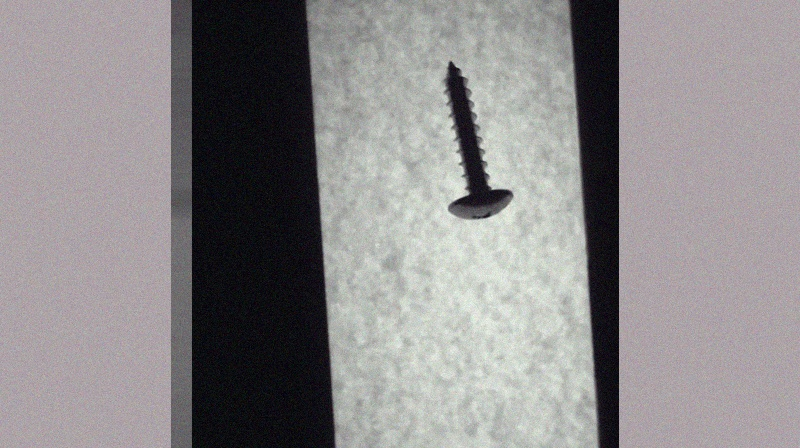S003: (438, 57, 516, 222)
